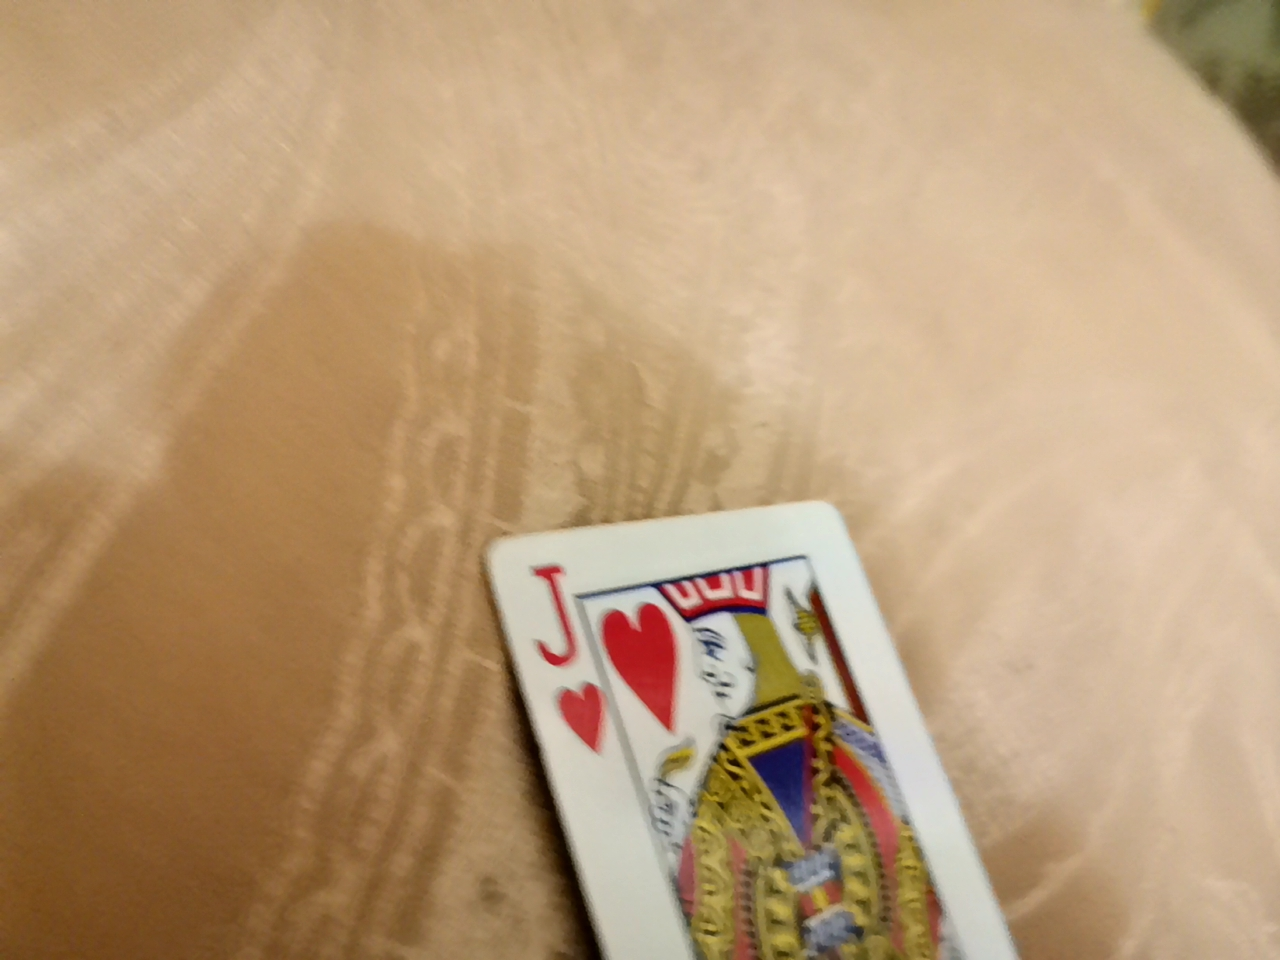hx j: (476, 493, 990, 960)
